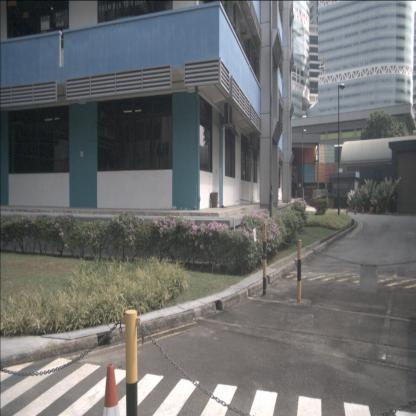movable_object-trafficcone: (103, 358, 119, 416), (346, 206, 349, 216), (354, 206, 357, 215), (369, 205, 372, 214), (362, 205, 364, 215)
